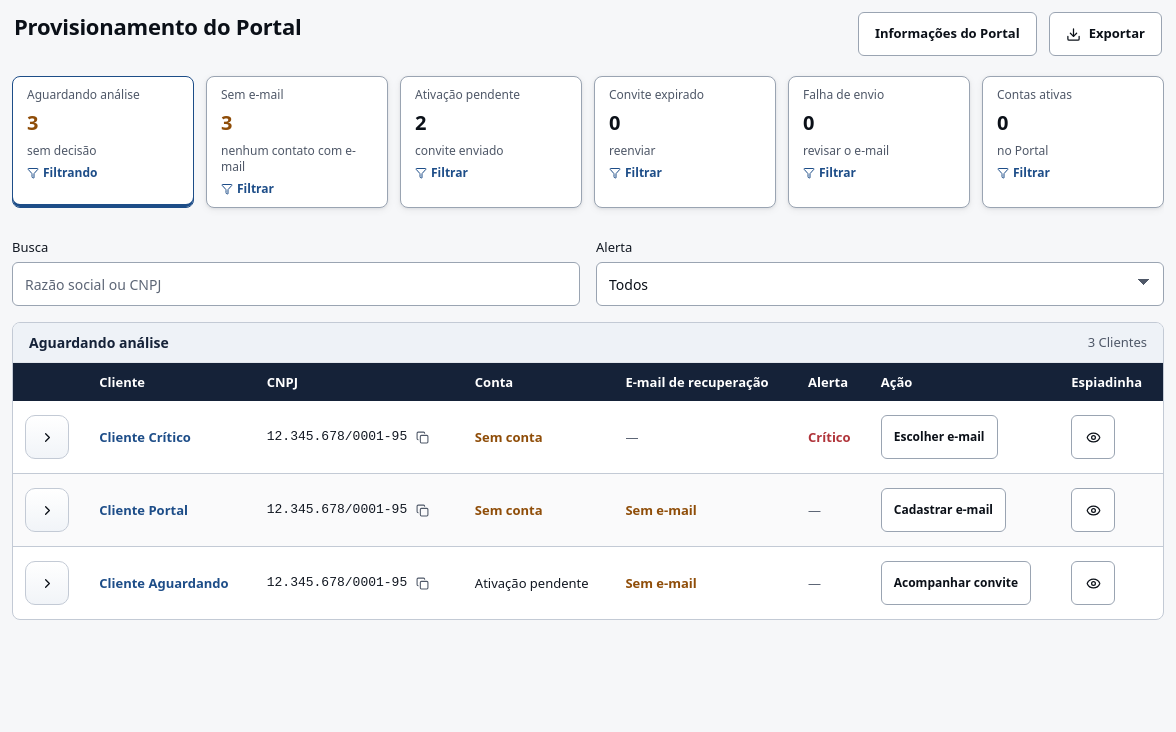
Test: ClientesPortal › usa a mesma regra para filtrar e contar a fila de Ativação pendente
This screenshot has width=1176, height=732.
Click the button "Ativação pendente 2 convite enviado Filtrar".
click(491, 142)  # box [400,76,582,208]
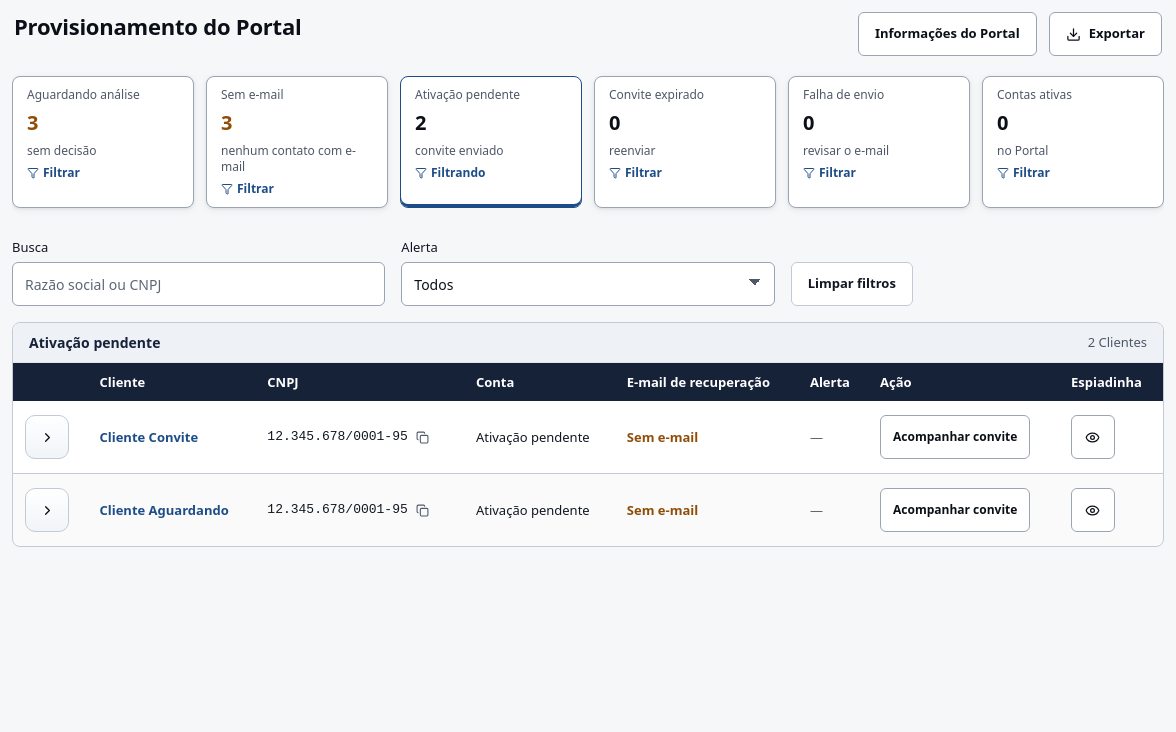
Expected: the button "Cliente Aguardando" is shown, [100,501,229,519]
Now the button "Cliente Convite" is shown, box [100,428,198,446]
Now the button "Cliente Portal" is gone
